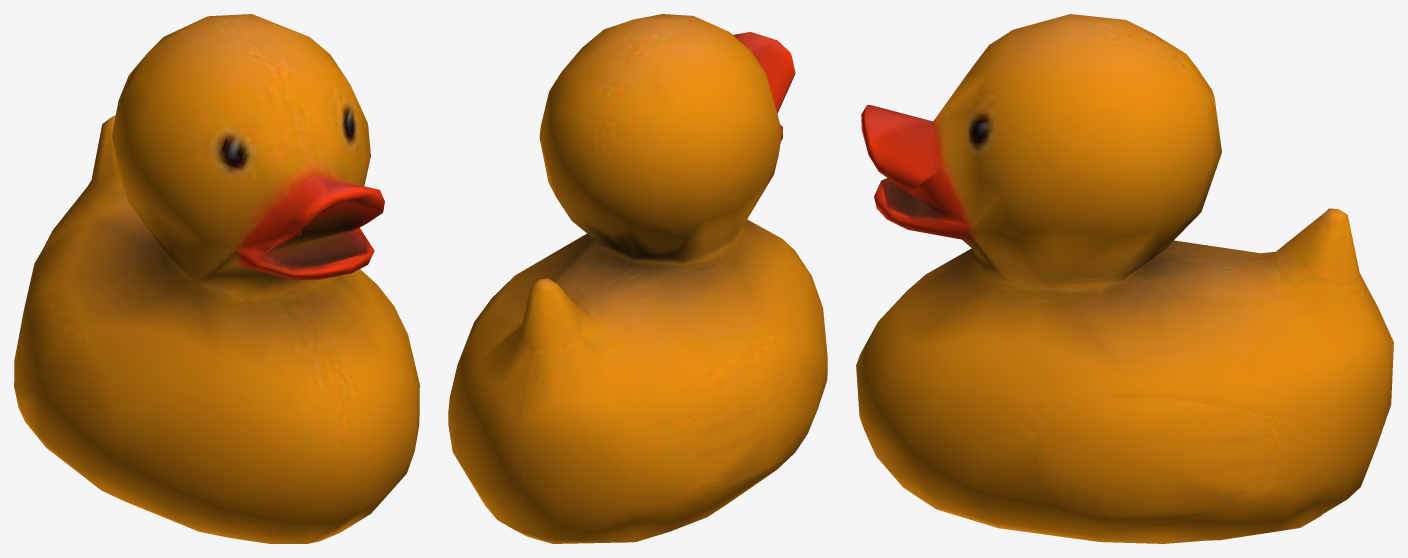
File: rubber_duck_toy.glb
The picture shows the model from 3 angles, left to right: view 1: azimuth 30°, elevation 25°; view 2: azimuth 150°, elevation 25°; view 3: azimuth 270°, elevation 25°; orthographic projection. The views are drawn at different scales.
Visible parts, largest first — view 1: rubber_duck_toy; view 2: rubber_duck_toy; view 3: rubber_duck_toy.
Part boxes in pixels (x1=…): rubber_duck_toy: x1=14, y1=14, x2=419, y2=543; rubber_duck_toy: x1=448, y1=14, x2=827, y2=543; rubber_duck_toy: x1=856, y1=14, x2=1393, y2=543.
Size of the model in its own units: 0.2125 by 0.2849 by 0.2977.
Materials: 1 (1 with a texture image).
